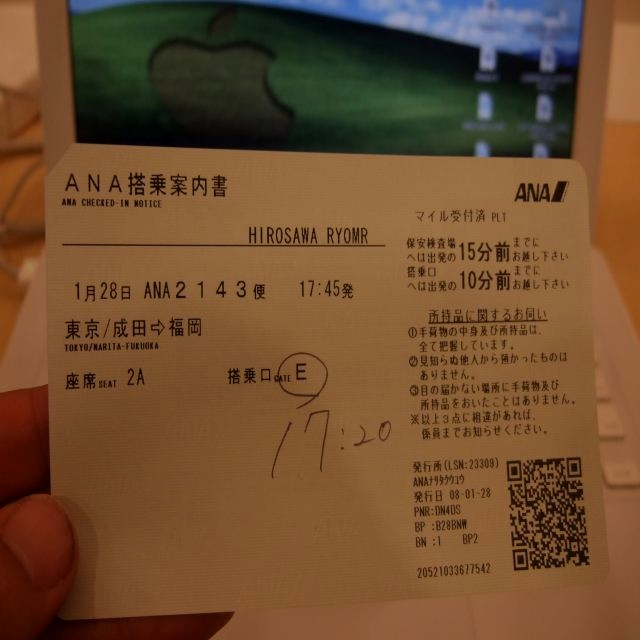qr-code: (506, 457, 590, 570)
